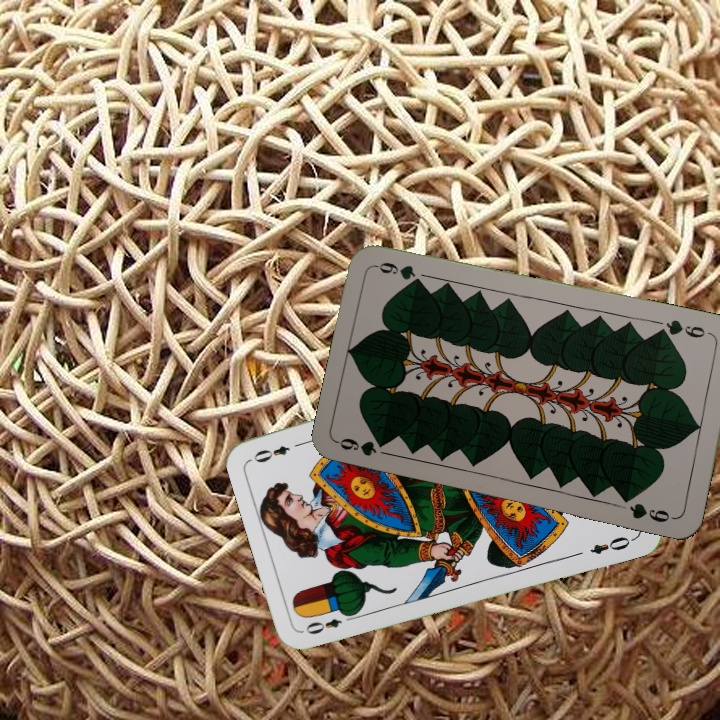EO: (301, 609, 359, 637)
G9: (656, 315, 708, 341), (335, 434, 380, 459)
